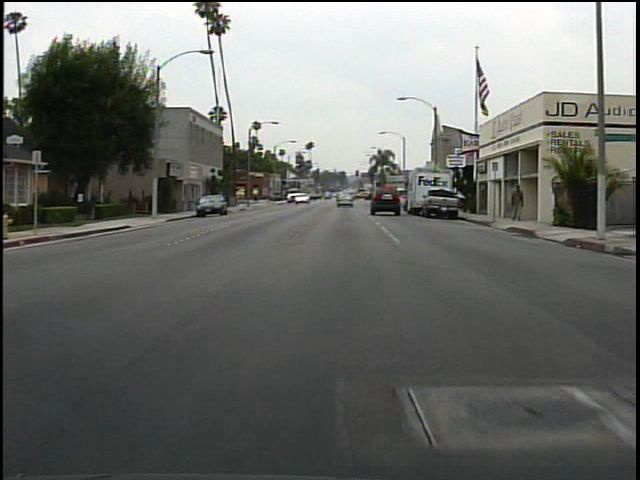person: (507, 183, 528, 223)
